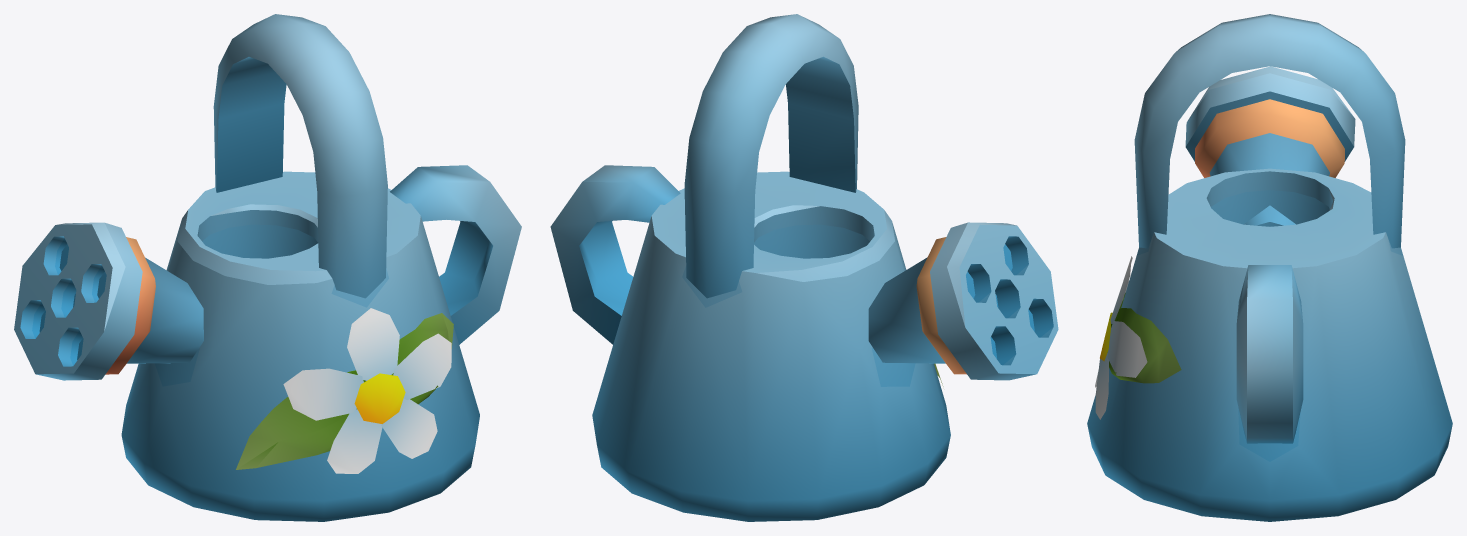
The model's file is wateringcanwflower.glb.
3 views of the same model, side by side, from view 1: azimuth 30°, elevation 25°; view 2: azimuth 150°, elevation 25°; view 3: azimuth 270°, elevation 25° (orthographic).
Parts seen in each view (by area): view 1: wateringcanwflower; view 2: wateringcanwflower; view 3: wateringcanwflower.
Part boxes in pixels (left/top/right/bottom): wateringcanwflower: left=14, top=14, right=521, bottom=521; wateringcanwflower: left=550, top=14, right=1058, bottom=521; wateringcanwflower: left=1087, top=14, right=1452, bottom=521.
Bounding box in the file's own units: 1.03 × 0.9026 × 0.6817.
Materials: 1 (1 with a texture image).
